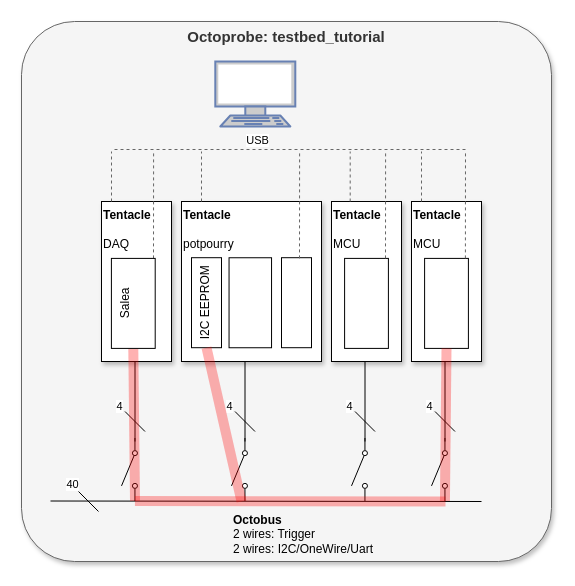
Some shapes in this 575 by 586 pixel diagram are drawn without their labels. Here are the shapes that lost their labels. From the top down, the centre of each, then its label:
At point 250,302: "OneWrite Temperature".
At point 296,302: "UART".
At point 366,302: "Raspberry Pico 2".
At point 446,302: "pyboard".
